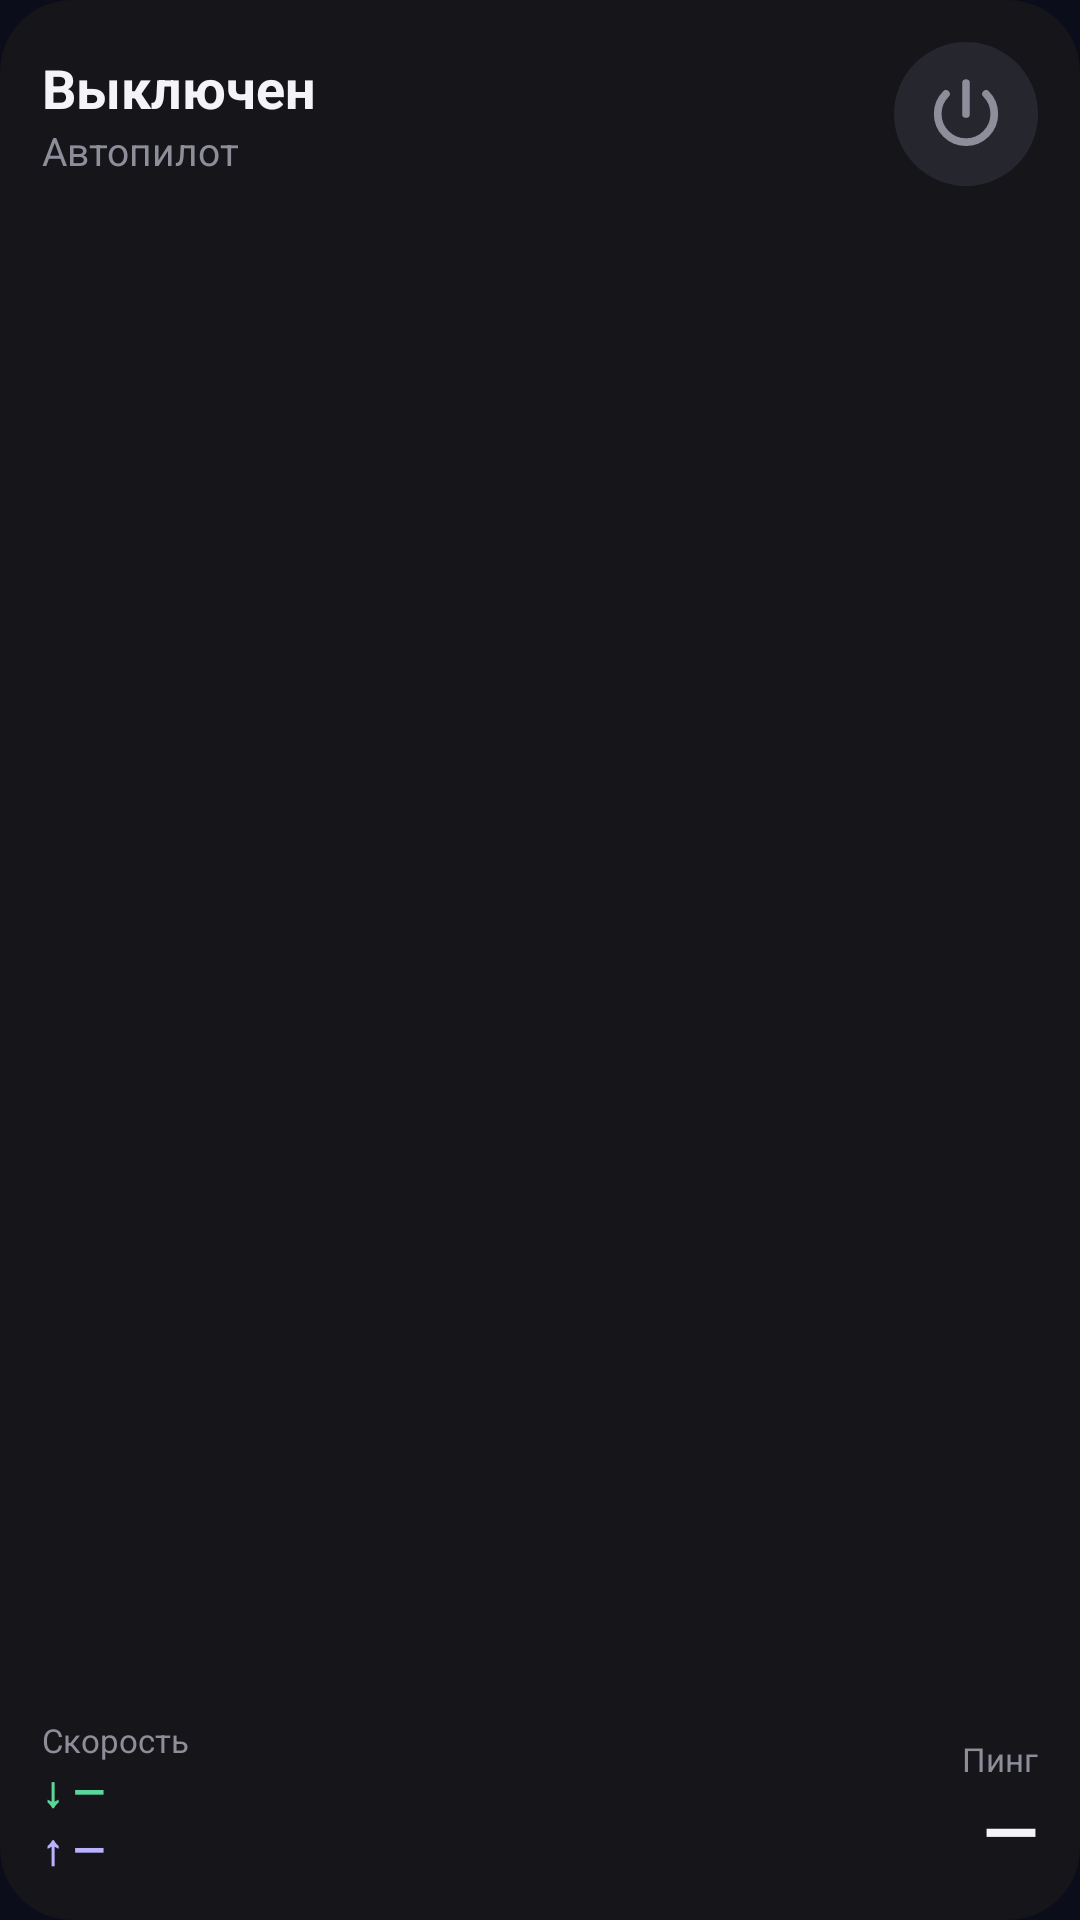

Named icons in this screenshot (1080 × 1920) and their centers, [x,y]:
Включить или выключить VPN: [966,114]
